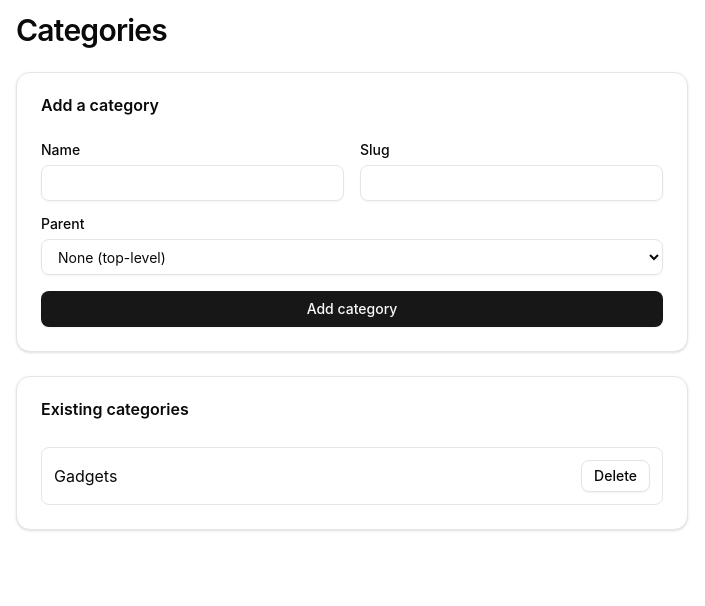
Test: AdminCategoriesPage › shows the server error when delete is blocked
Click the button "Delete".
click(616, 476)  # box x1=581 y1=460 x2=650 y2=492
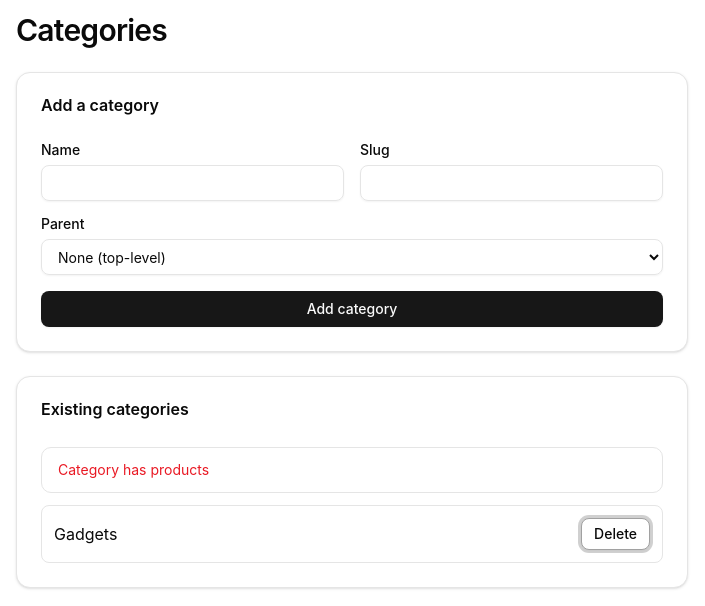
Result: the message reads "Category has products" at x1=58 y1=461 x2=209 y2=478
